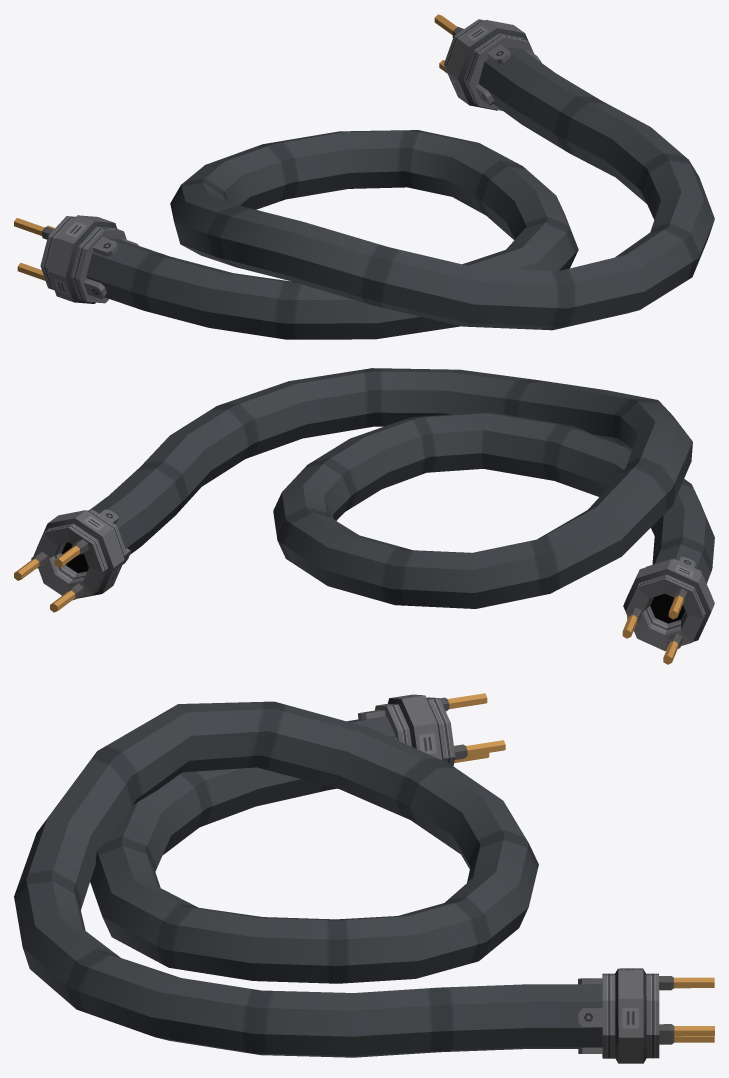
The model's file is SM_Prop_SciFiCable_02.fbx.
The picture shows the model from 3 angles, top to bottom: view 1: azimuth 30°, elevation 25°; view 2: azimuth 150°, elevation 25°; view 3: azimuth 270°, elevation 25°; orthographic projection. The views are drawn at different scales.
Parts seen in each view (by area): view 1: SM_Prop_SciFiCable_02; view 2: SM_Prop_SciFiCable_02; view 3: SM_Prop_SciFiCable_02.
Boxes of the visible parts, left/top/right/bottom form: SM_Prop_SciFiCable_02: left=14, top=14, right=714, bottom=339; SM_Prop_SciFiCable_02: left=14, top=368, right=714, bottom=664; SM_Prop_SciFiCable_02: left=14, top=693, right=714, bottom=1063.
Size of the model in its own units: 243 by 49.53 by 226.
1 material, 1 textured.
